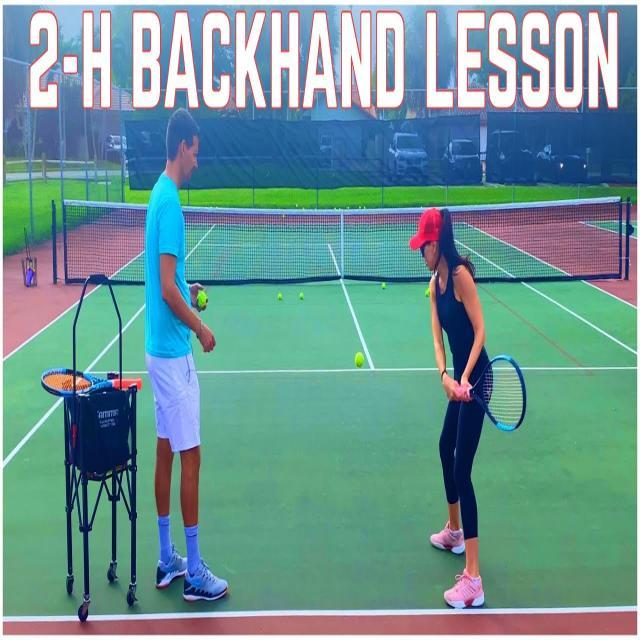court: (0, 274, 639, 630)
net: (51, 183, 633, 287)
player: (401, 202, 530, 621)
